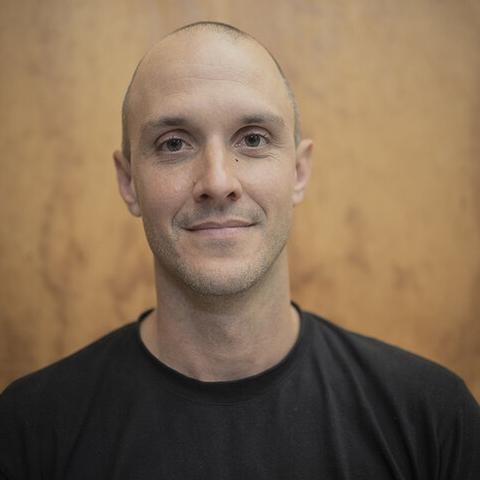opened: (144, 117, 284, 171)
